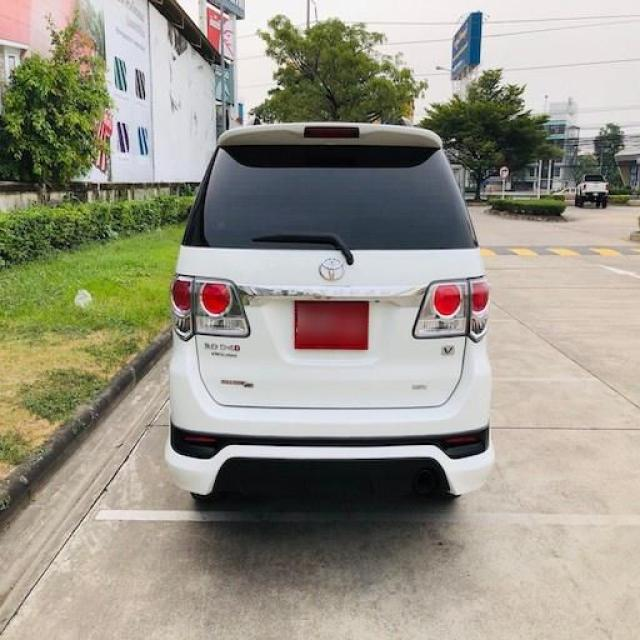back_bumper: (164, 330, 496, 495)
back_glass: (182, 144, 480, 249)
back_left_light: (170, 273, 249, 341)
back_right_light: (413, 276, 491, 341)
trunk: (175, 245, 488, 410)
